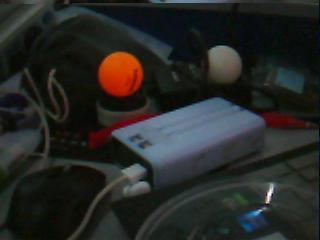oball: (98, 51, 143, 95)
